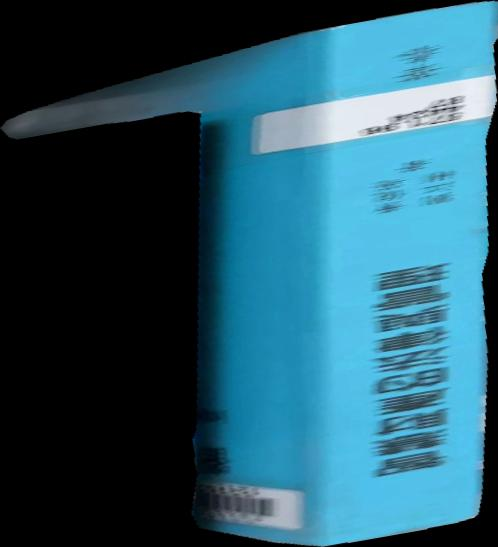reverse: (1, 1, 498, 547)
